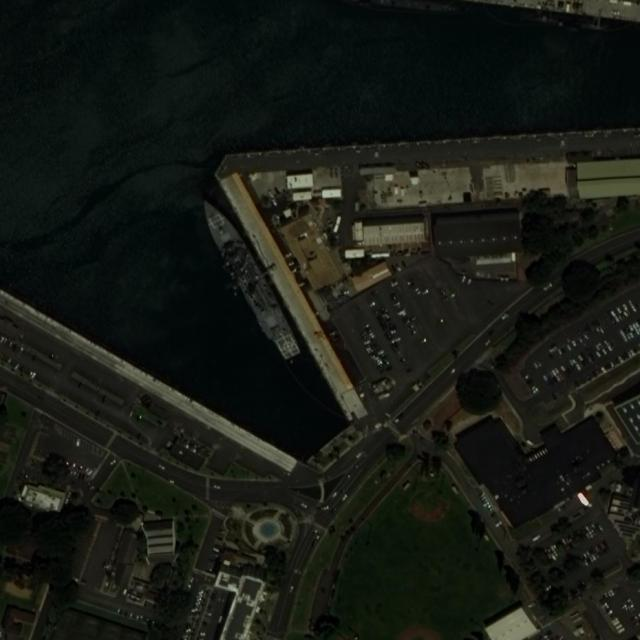Frigate: (195, 195, 305, 362)
